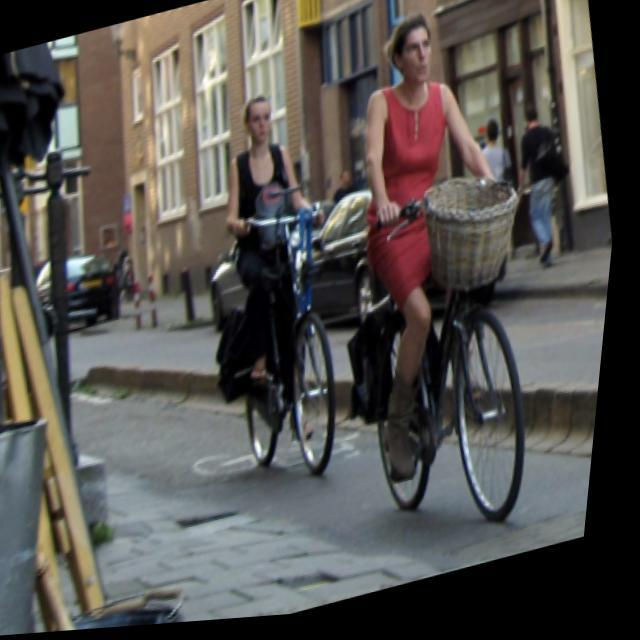Nonhelmet: (376, 10, 448, 94), (232, 83, 284, 155)
